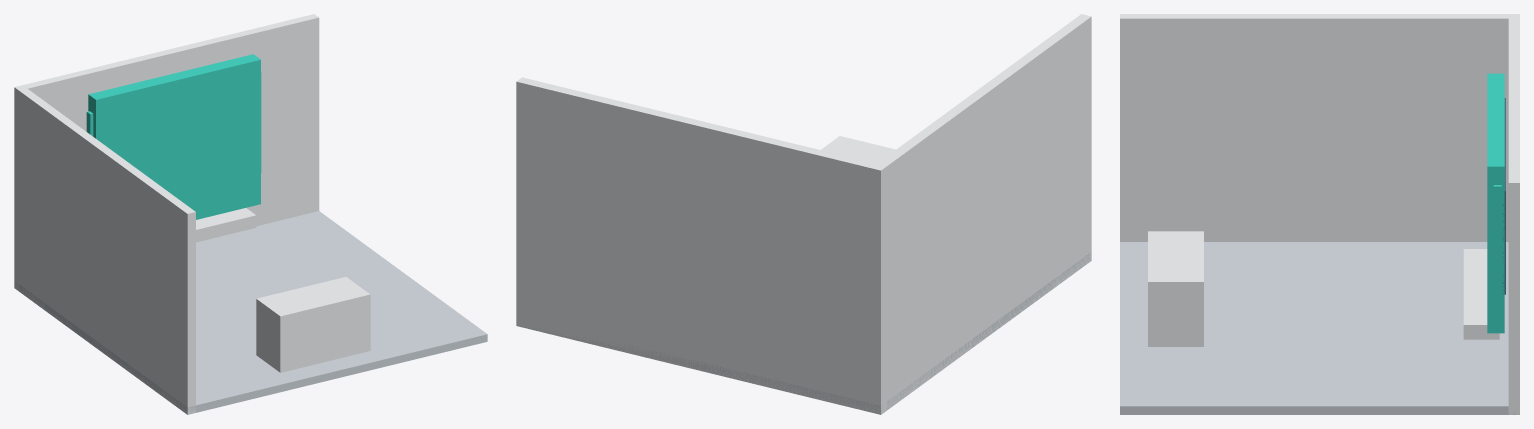
3 views of the same model, side by side, from view 1: azimuth 30°, elevation 25°; view 2: azimuth 150°, elevation 25°; view 3: azimuth 270°, elevation 25° (orthographic). The views are drawn at different scales.
Visible parts, largest first — view 1: Exhibition Booth Concept; view 2: Exhibition Booth Concept; view 3: Exhibition Booth Concept.
Boxes of the visible parts, left/top/right/bottom form: Exhibition Booth Concept: left=14, top=14, right=487, bottom=414; Exhibition Booth Concept: left=516, top=14, right=1091, bottom=414; Exhibition Booth Concept: left=1120, top=14, right=1519, bottom=414.
Size of the model in its own units: 5 by 3.2 by 5.
